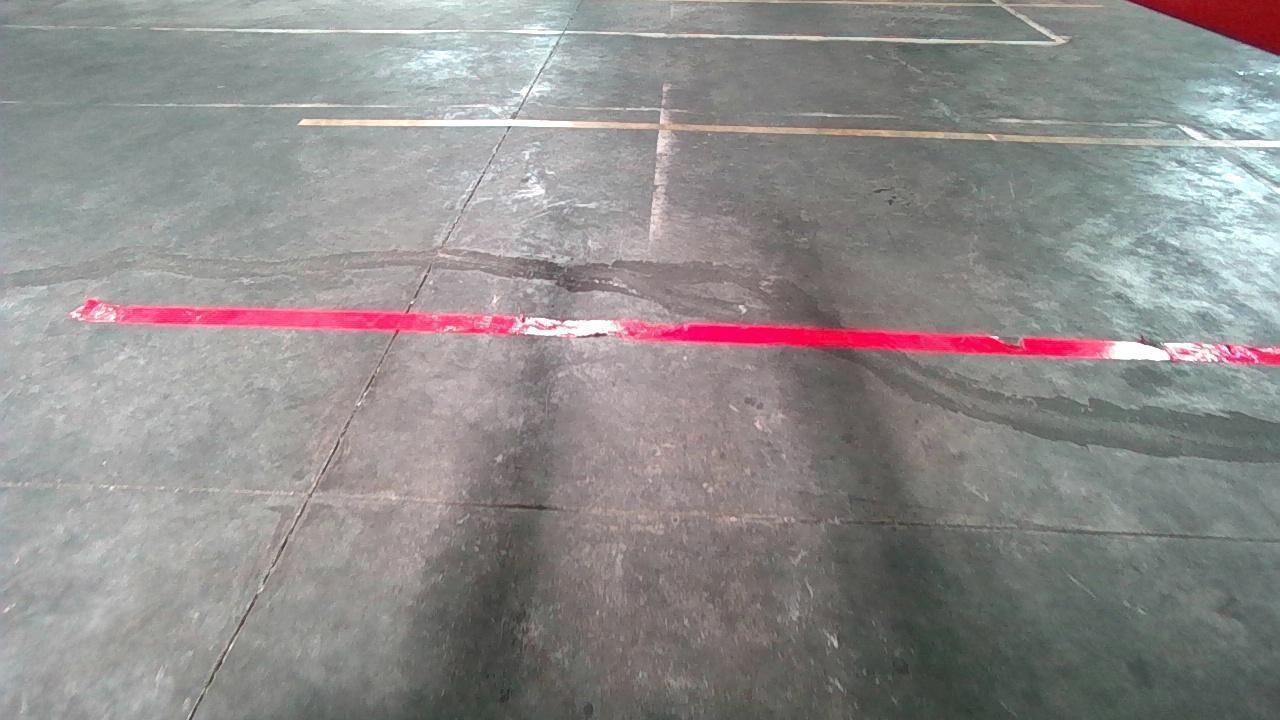red_line: (71, 299, 1280, 363)
yellow_line: (297, 114, 1280, 153)
